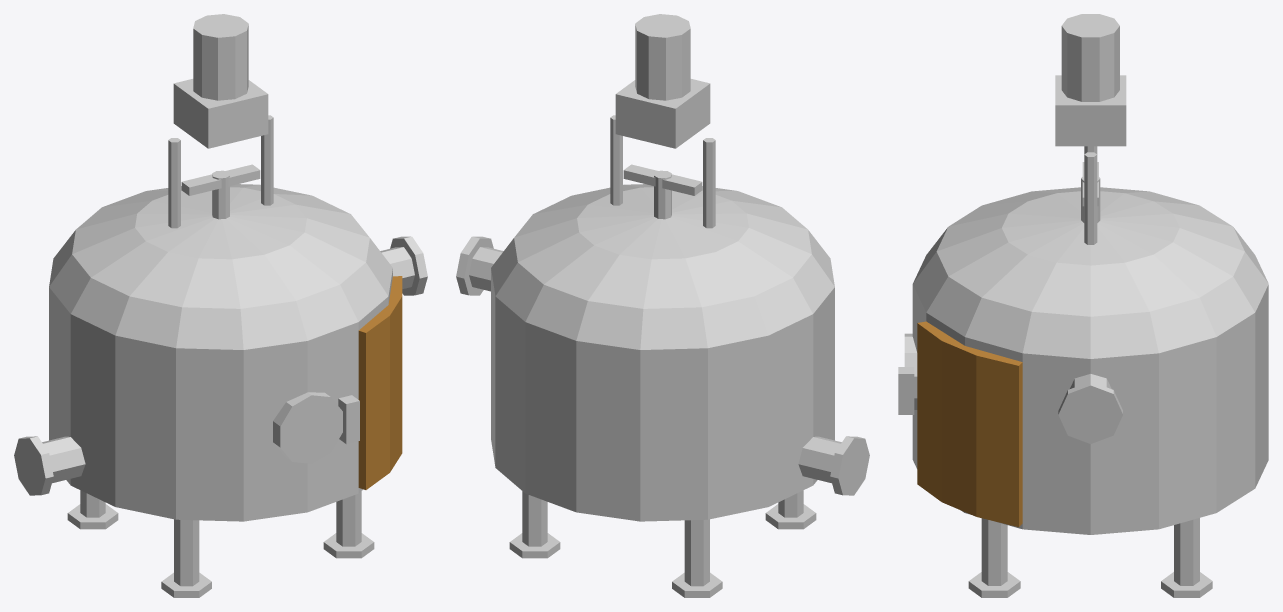
The model's file is mash-tun.glb.
The picture shows the model from 3 angles, left to right: view 1: azimuth 30°, elevation 25°; view 2: azimuth 150°, elevation 25°; view 3: azimuth 270°, elevation 25°; orthographic projection. The views are drawn at different scales.
Parts seen in each view (by area): view 1: shell, liquid, drive.gearbox, drive.motor, manway, outlet, leg.3, leg.0, outlet.flange, drive.post.-1, crossbar, drive.post.1 (+7 smaller); view 2: shell, drive.gearbox, drive.motor, outlet, leg.2, outlet.flange, leg.1, drive.post.-1, crossbar, drive.post.1, inlet.flange, inlet (+4 smaller); view 3: shell, liquid, drive.motor, drive.gearbox, inlet.flange, leg.0, inlet, leg.1, drive.post.1, leg.0.foot, manway.hinge, leg.1.foot (+1 smaller).
Part boxes in pixels (left/top/right/bottom): shell: left=49, top=184, right=392, bottom=521; liquid: left=358, top=276, right=402, bottom=489; drive.gearbox: left=173, top=79, right=268, bottom=148; drive.motor: left=193, top=14, right=248, bottom=100; manway: left=273, top=392, right=342, bottom=463; outlet: left=19, top=436, right=85, bottom=486; leg.3: left=174, top=519, right=199, bottom=586; leg.0: left=336, top=491, right=361, bottom=546; outlet.flange: left=14, top=436, right=53, bottom=495; drive.post.-1: left=168, top=138, right=180, bottom=228; crossbar: left=181, top=164, right=260, bottom=195; drive.post.1: left=261, top=115, right=273, bottom=205; shell: left=491, top=184, right=834, bottom=521; drive.gearbox: left=615, top=79, right=710, bottom=148; drive.motor: left=635, top=14, right=690, bottom=100; outlet: left=798, top=436, right=864, bottom=486; leg.2: left=684, top=519, right=709, bottom=586; outlet.flange: left=830, top=436, right=869, bottom=495; leg.1: left=522, top=491, right=547, bottom=546; drive.post.-1: left=703, top=138, right=715, bottom=228; crossbar: left=623, top=164, right=702, bottom=195; drive.post.1: left=610, top=115, right=622, bottom=205; inlet.flange: left=456, top=236, right=493, bottom=295; inlet: left=469, top=247, right=503, bottom=291; shell: left=912, top=187, right=1268, bottom=534; liquid: left=917, top=321, right=1022, bottom=527; drive.motor: left=1061, top=14, right=1119, bottom=101; drive.gearbox: left=1055, top=75, right=1126, bottom=146; inlet.flange: left=1058, top=381, right=1122, bottom=443; leg.0: left=981, top=518, right=1007, bottom=585; inlet: left=1068, top=374, right=1113, bottom=435; leg.1: left=1174, top=518, right=1199, bottom=585; drive.post.1: left=1084, top=152, right=1097, bottom=244; leg.0.foot: left=968, top=572, right=1020, bottom=597; manway.hinge: left=898, top=367, right=914, bottom=414; leg.1.foot: left=1161, top=572, right=1212, bottom=597.
Size of the model in its own units: 1.4 by 1.78 by 1.15.
